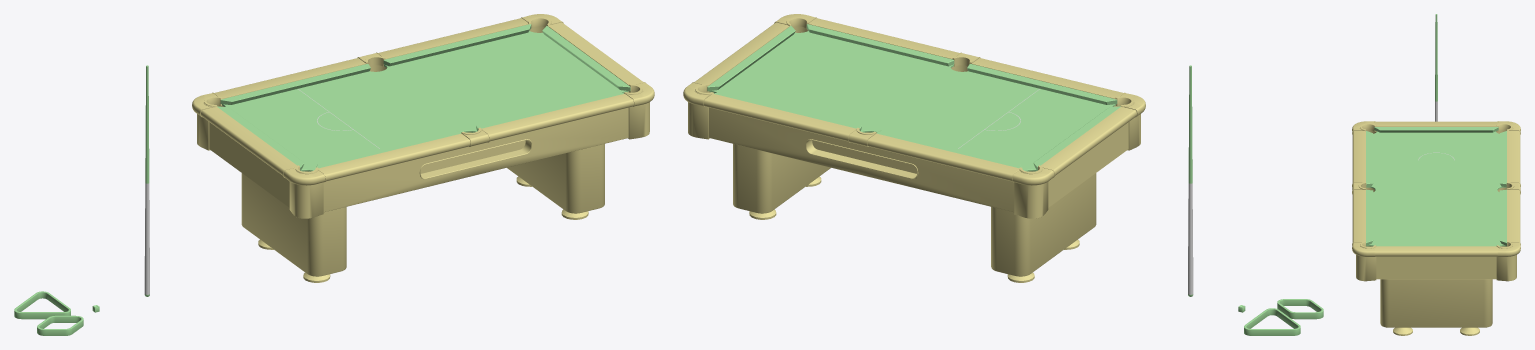
File: Billiard Pool.fbx
3 views of the same model, side by side, from view 1: azimuth 30°, elevation 25°; view 2: azimuth 150°, elevation 25°; view 3: azimuth 270°, elevation 25° (orthographic). The views are drawn at different scales.
Visible parts, largest first — view 1: Play_Field, Cabinet, Upper_part, Cushions, Cue_Stick, Corner_Pockets, Fifteen_Balls, Nine_Balls; view 2: Play_Field, Cabinet, Upper_part, Cushions, Cue_Stick, Fifteen_Balls, Corner_Pockets, Nine_Balls; view 3: Play_Field, Cabinet, Upper_part, Cushions, Corner_Pockets, Cue_Stick.
Boxes of the visible parts, x1,y1,x2,y2 form: Play_Field: [222, 31, 628, 171]; Cabinet: [197, 102, 649, 282]; Upper_part: [192, 14, 654, 185]; Cushions: [217, 24, 630, 170]; Cue_Stick: [144, 65, 149, 296]; Corner_Pockets: [204, 17, 642, 173]; Fifteen_Balls: [14, 291, 70, 319]; Nine_Balls: [37, 315, 83, 335]; Play_Field: [709, 31, 1115, 171]; Cabinet: [688, 102, 1140, 282]; Upper_part: [683, 14, 1145, 185]; Cushions: [707, 24, 1120, 170]; Cue_Stick: [1188, 65, 1193, 296]; Fifteen_Balls: [1244, 308, 1300, 335]; Corner_Pockets: [695, 17, 1133, 173]; Nine_Balls: [1277, 299, 1323, 319]; Play_Field: [1366, 131, 1506, 246]; Cabinet: [1356, 255, 1516, 335]; Upper_part: [1352, 121, 1520, 256]; Cushions: [1366, 127, 1506, 246]; Corner_Pockets: [1358, 123, 1514, 248]; Cue_Stick: [1435, 14, 1437, 121].
Bounding box in the file's own units: 394 × 151 × 134.
